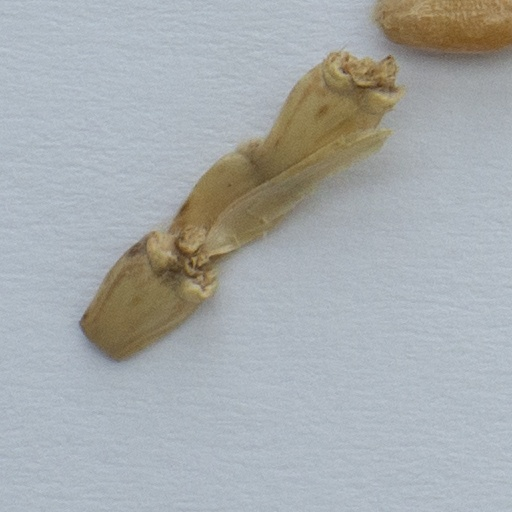Peel-poly: (77, 53, 399, 358)
